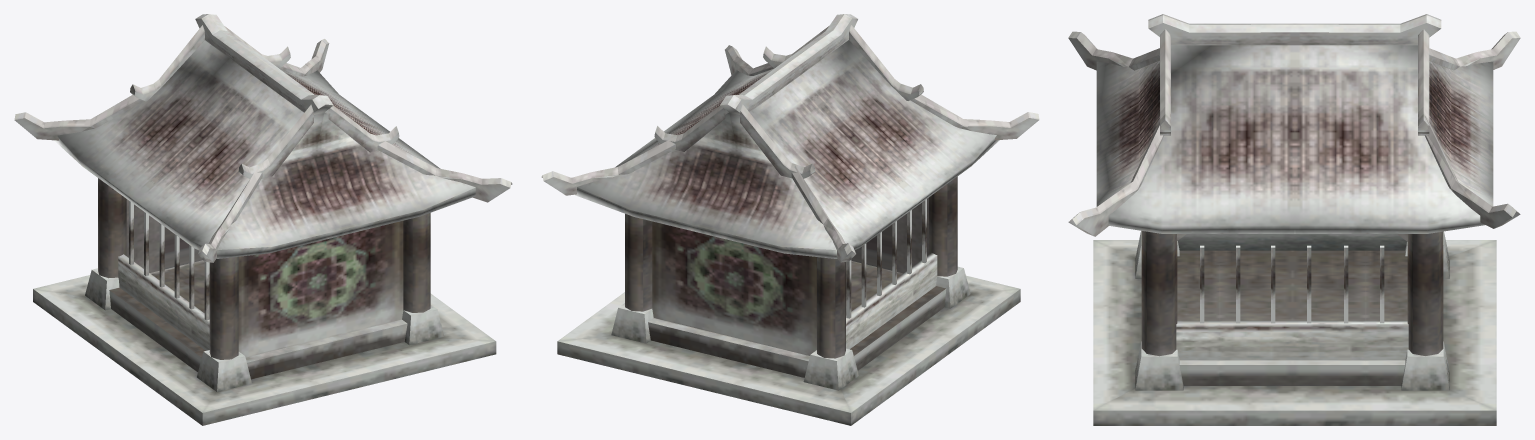
The model's file is snow-004-house2.fbx.
3 views of the same model, side by side, from view 1: azimuth 30°, elevation 25°; view 2: azimuth 150°, elevation 25°; view 3: azimuth 270°, elevation 25° (orthographic). The views are drawn at different scales.
Visible parts, largest first — view 1: snow-004-hause2; view 2: snow-004-hause2; view 3: snow-004-hause2.
Boxes of the visible parts, x1,y1,x2,y2 form: snow-004-hause2: (14, 14, 512, 425); snow-004-hause2: (541, 14, 1039, 425); snow-004-hause2: (1068, 14, 1520, 425).
Size of the model in its own units: 4.01 by 3.33 by 4.19.
